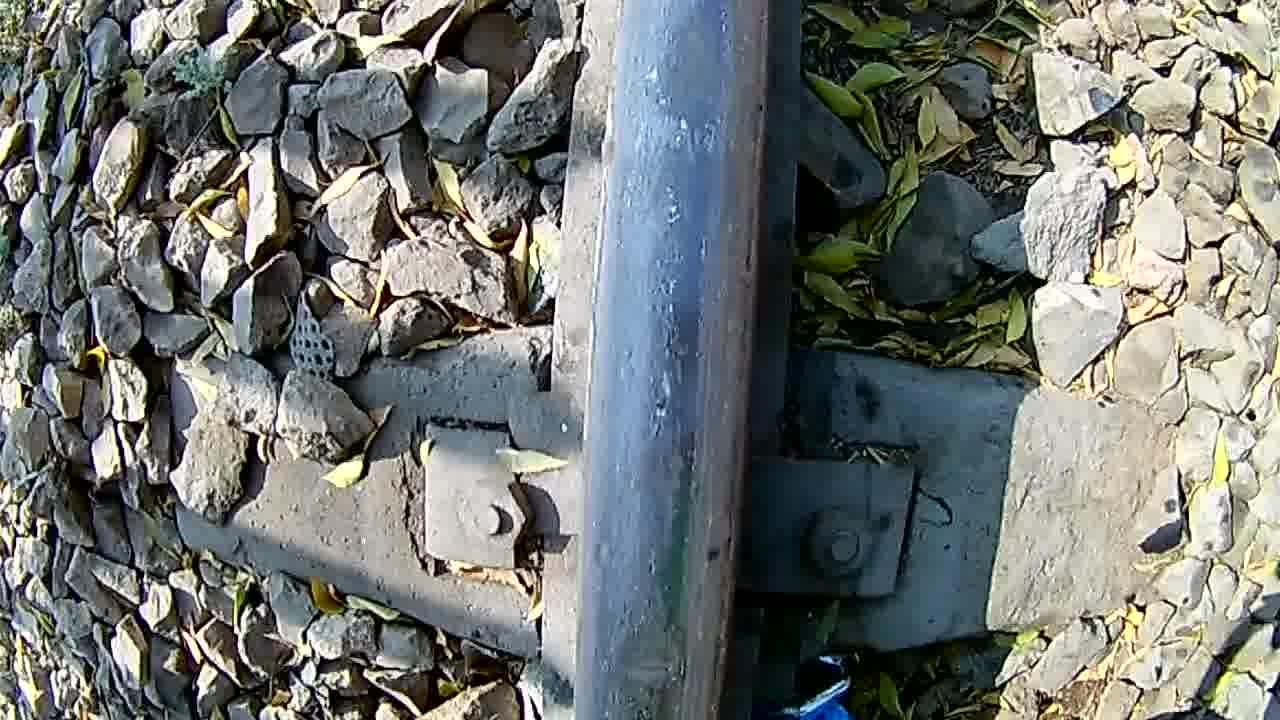bolt_missing: (600, 4, 767, 720)
